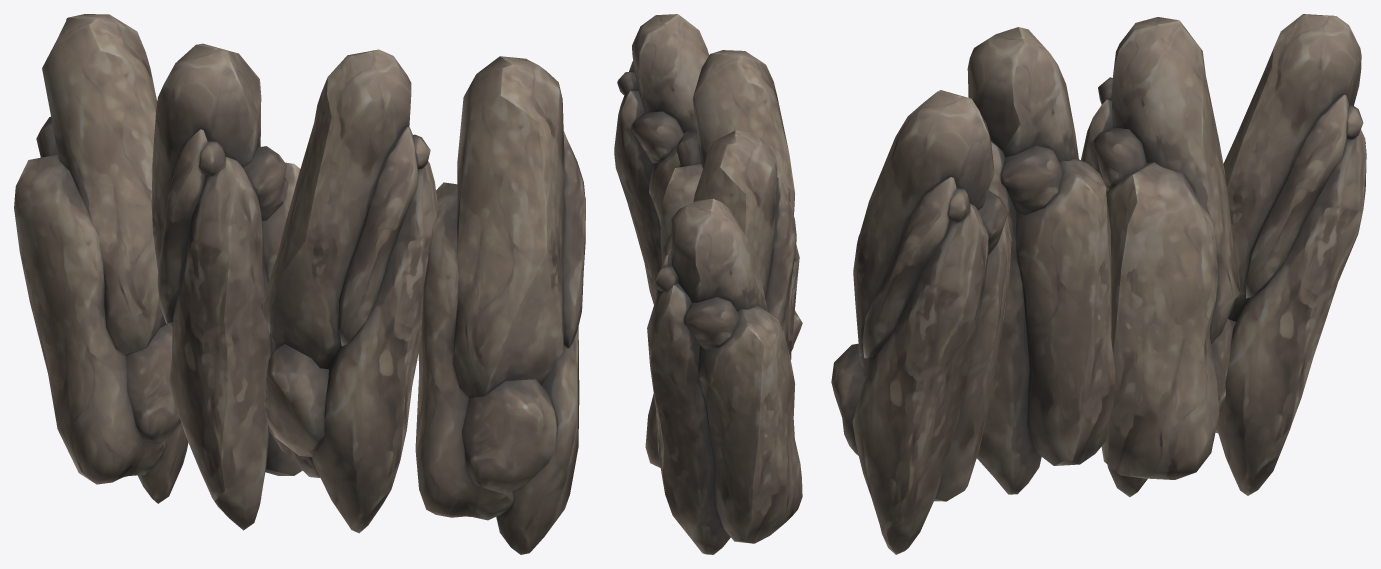
File: boss_wall.glb
The picture shows the model from 3 angles, left to right: view 1: azimuth 30°, elevation 25°; view 2: azimuth 150°, elevation 25°; view 3: azimuth 270°, elevation 25°; orthographic projection. The views are drawn at different scales.
Visible parts, largest first — view 1: Rock2.010, Rock2.013, Rock2.033, Rock2.006; view 2: Rock2.033, Rock2.010, Rock2.006, Rock2.013; view 3: Rock2.010, Rock2.006, Rock2.033, Rock2.013.
Part boxes in pixels (x1,y1,x2,y2): Rock2.010: (415, 56, 585, 554); Rock2.013: (260, 49, 438, 533); Rock2.033: (14, 14, 188, 503); Rock2.006: (151, 43, 302, 530); Rock2.033: (647, 199, 802, 554); Rock2.010: (614, 14, 709, 304); Rock2.006: (645, 130, 799, 467); Rock2.013: (660, 50, 802, 350); Rock2.010: (831, 90, 1011, 554); Rock2.006: (1081, 17, 1240, 496); Rock2.033: (1215, 14, 1366, 495); Rock2.013: (967, 27, 1115, 494).
Bounding box in the file's own units: 20.19 × 26.5 × 25.49.
4 materials, 4 textured.
